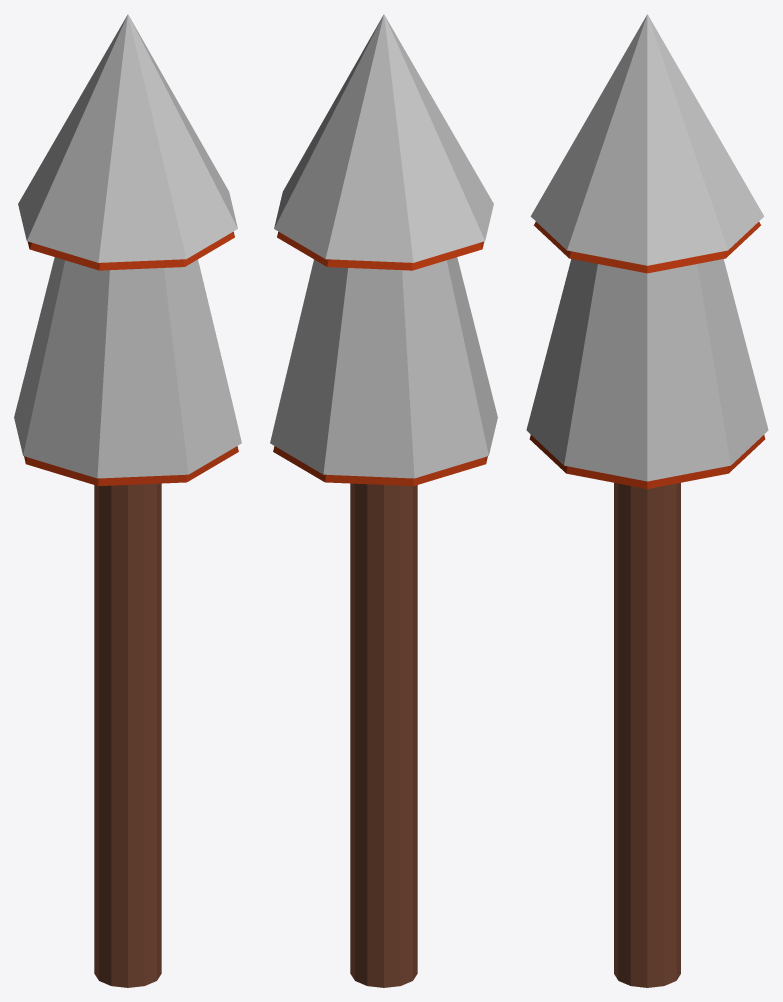
Rendered from Tree_21_winter_red_vc.fbx.
3 views of the same model, side by side, from view 1: azimuth 30°, elevation 25°; view 2: azimuth 150°, elevation 25°; view 3: azimuth 270°, elevation 25° (orthographic).
Parts seen in each view (by area): view 1: Tree_21_winter_red_vc; view 2: Tree_21_winter_red_vc; view 3: Tree_21_winter_red_vc.
Part boxes in pixels (x1,y1,x2,y2): Tree_21_winter_red_vc: (14,14,241,987); Tree_21_winter_red_vc: (270,14,497,987); Tree_21_winter_red_vc: (526,14,768,987).
Size of the model in its own units: 80.03 by 350 by 80.03.
